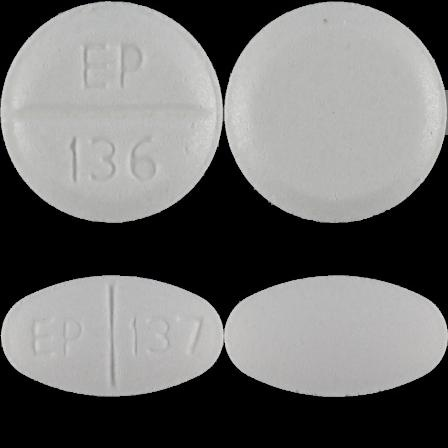64125-136: (0, 0, 224, 224)
